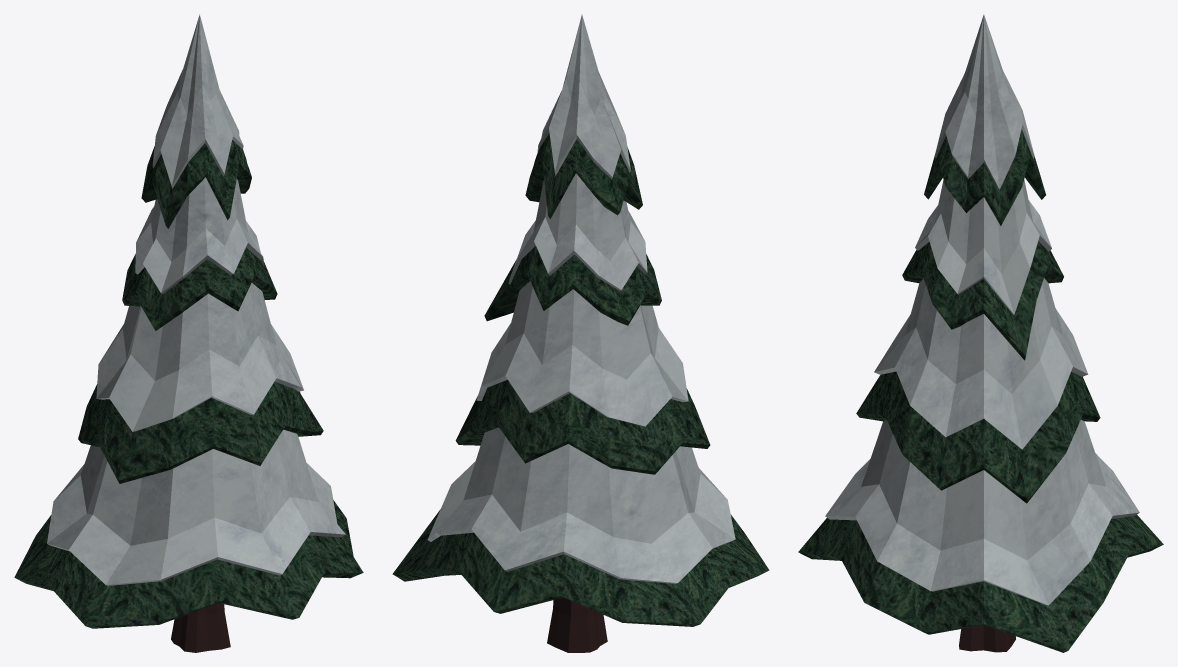
File: arbolicoHojas.fbx
3 views of the same model, side by side, from view 1: azimuth 30°, elevation 25°; view 2: azimuth 150°, elevation 25°; view 3: azimuth 270°, elevation 25° (orthographic).
Visible parts, largest first — view 1: Cylinder, Cube.001; view 2: Cylinder, Cube.001; view 3: Cylinder, Cube.001.
Boxes of the visible parts, x1,y1,x2,y2 form: Cylinder: (14, 14, 363, 628); Cube.001: (171, 603, 230, 652); Cylinder: (392, 14, 769, 626); Cube.001: (547, 597, 607, 652); Cylinder: (798, 14, 1163, 652); Cube.001: (959, 625, 1015, 652).
Bounding box in the file's own units: 1638 × 3277 × 1735.
